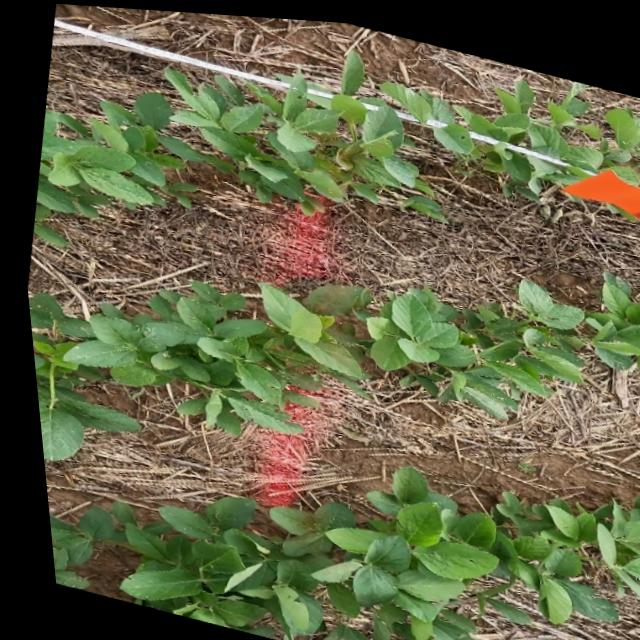soy_plant: (23, 270, 640, 459), (39, 461, 640, 640), (31, 46, 640, 220)
